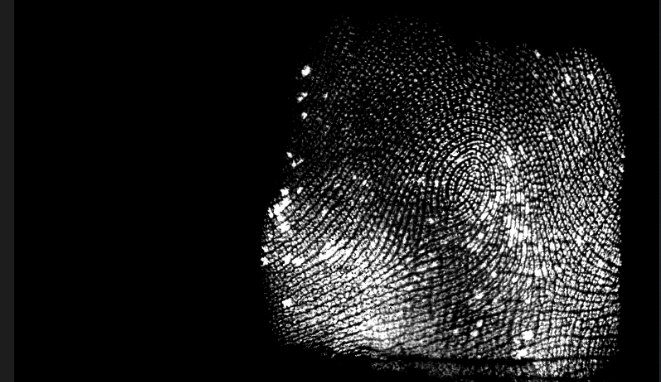nucelo: (452, 159, 483, 204)
verticilo: (407, 227, 431, 255), (527, 268, 550, 291)
